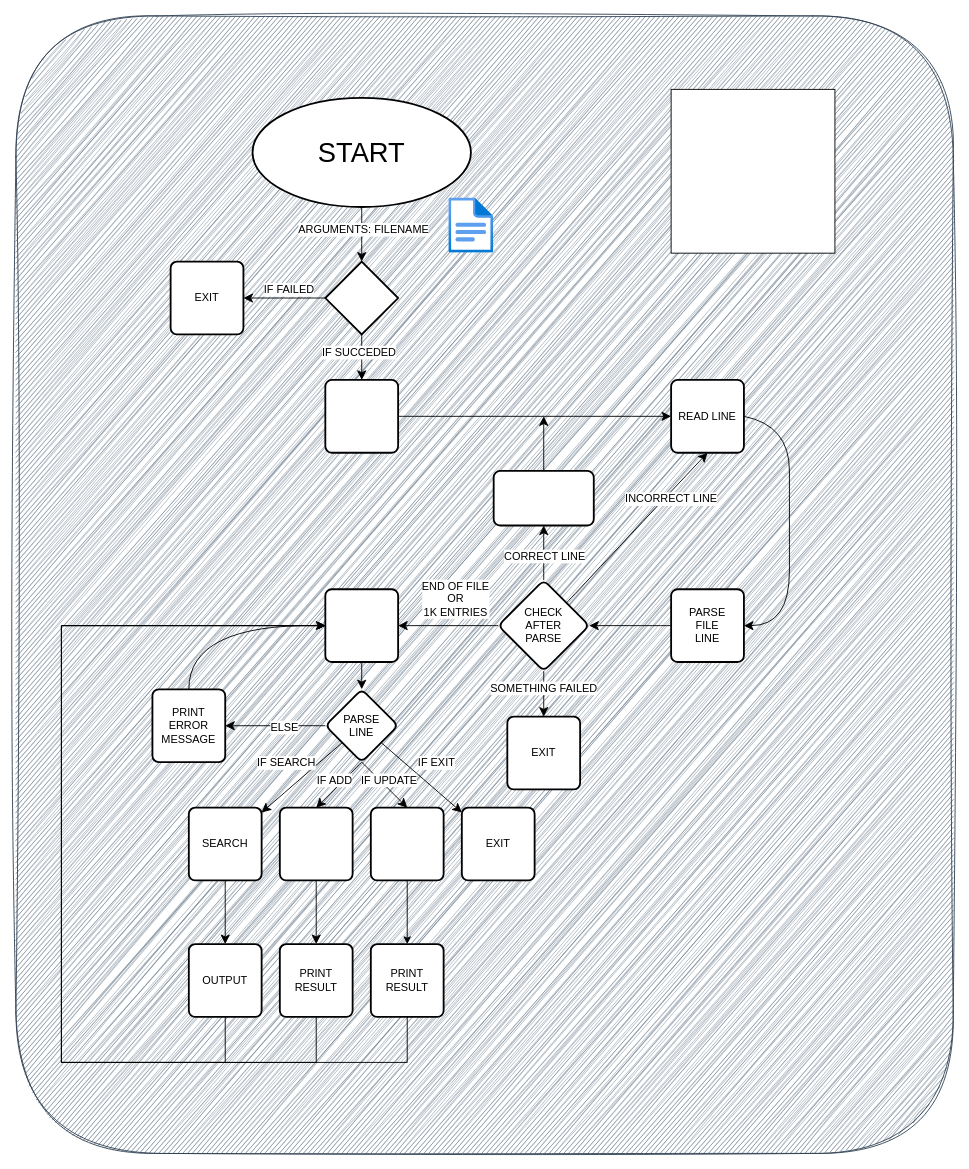
This 969x1169 diagram has some shape labels left out. The shapes that lost their labels are listed below. From the top down, each one's box as (x1, y1, x2, y2) in pixels, then its label:
(670, 88, 835, 253): SD 04 EX 03
(324, 260, 399, 335): OPEN FILE
(324, 379, 399, 453): PARSE FILE
(492, 470, 594, 526): INSERT LINE
(324, 588, 399, 662): MAIN LOOP
(278, 806, 353, 881): ADD
(369, 806, 444, 881): UPDATE
